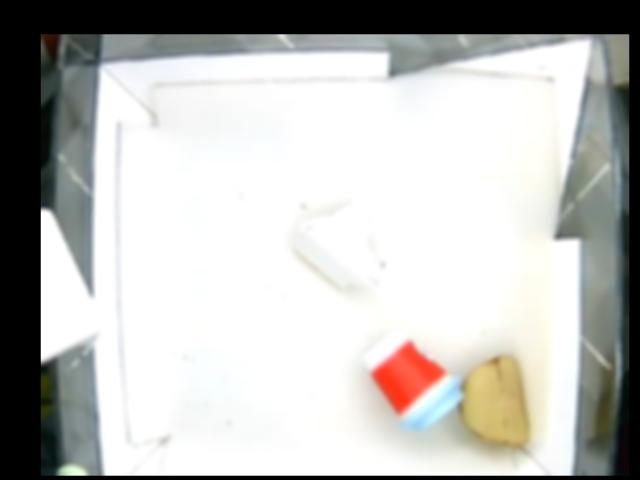China: (293, 198, 386, 297)
Cup: (366, 330, 466, 430)
Potato: (458, 356, 529, 449)
